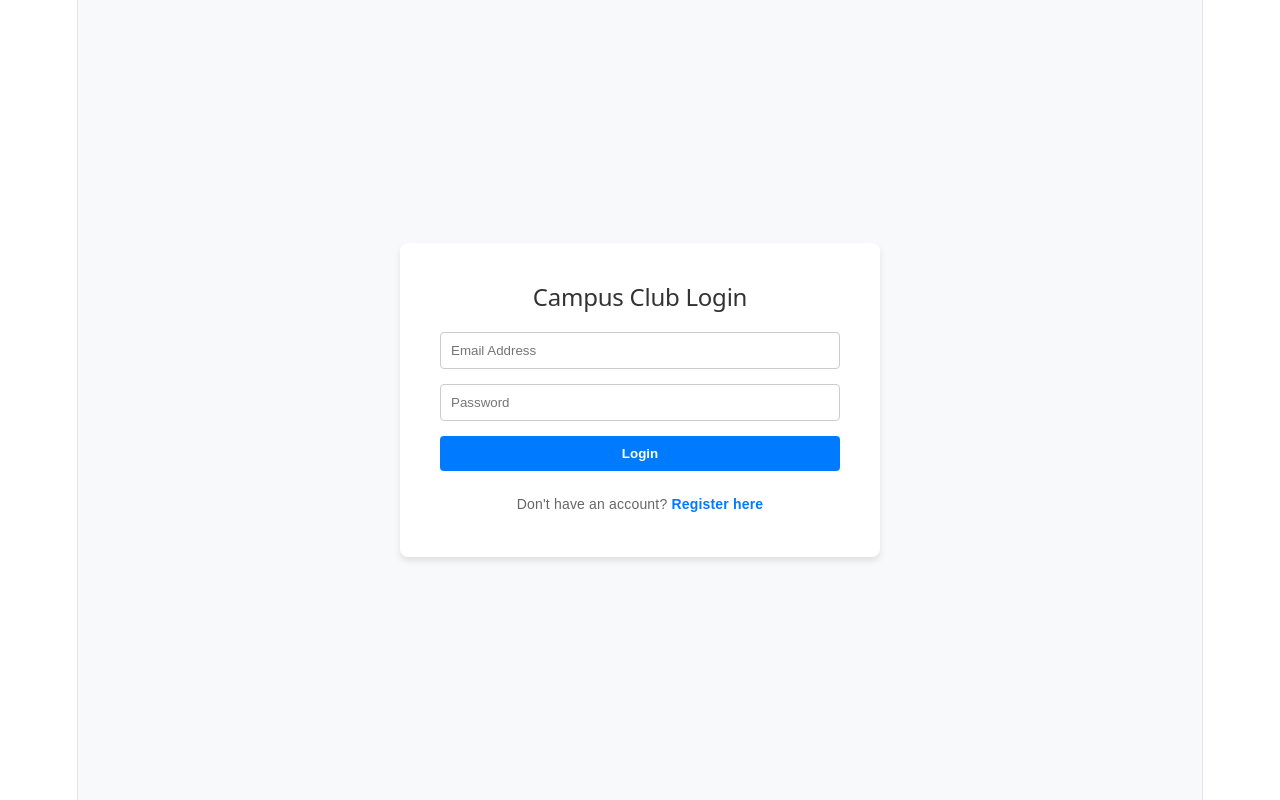
Test case: Login component › registers a new user, shows success message, and switches back to login mode
Click the text "Register here" at (717, 504), box [671,496,763,512]
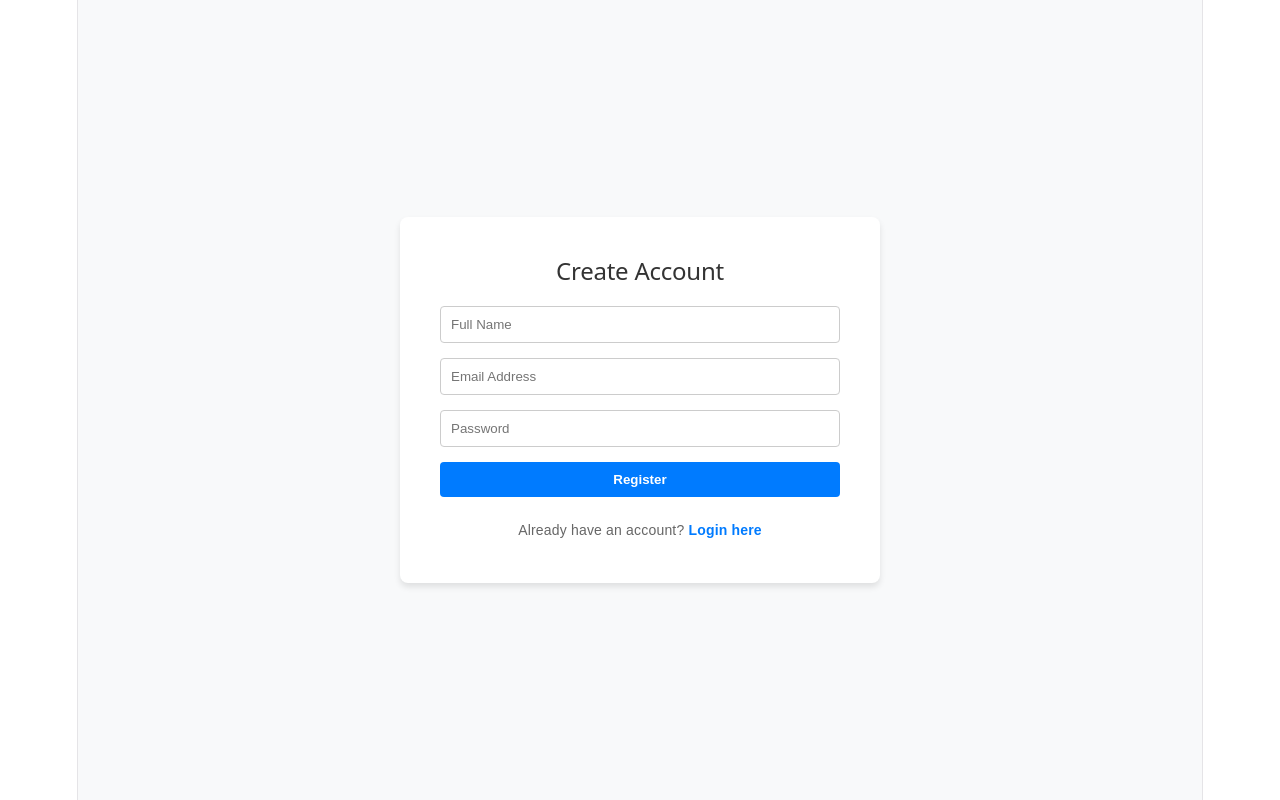
Type "Basima Salim" into the field with placeholder "Full Name" at (640, 324), box [440,306,840,343]
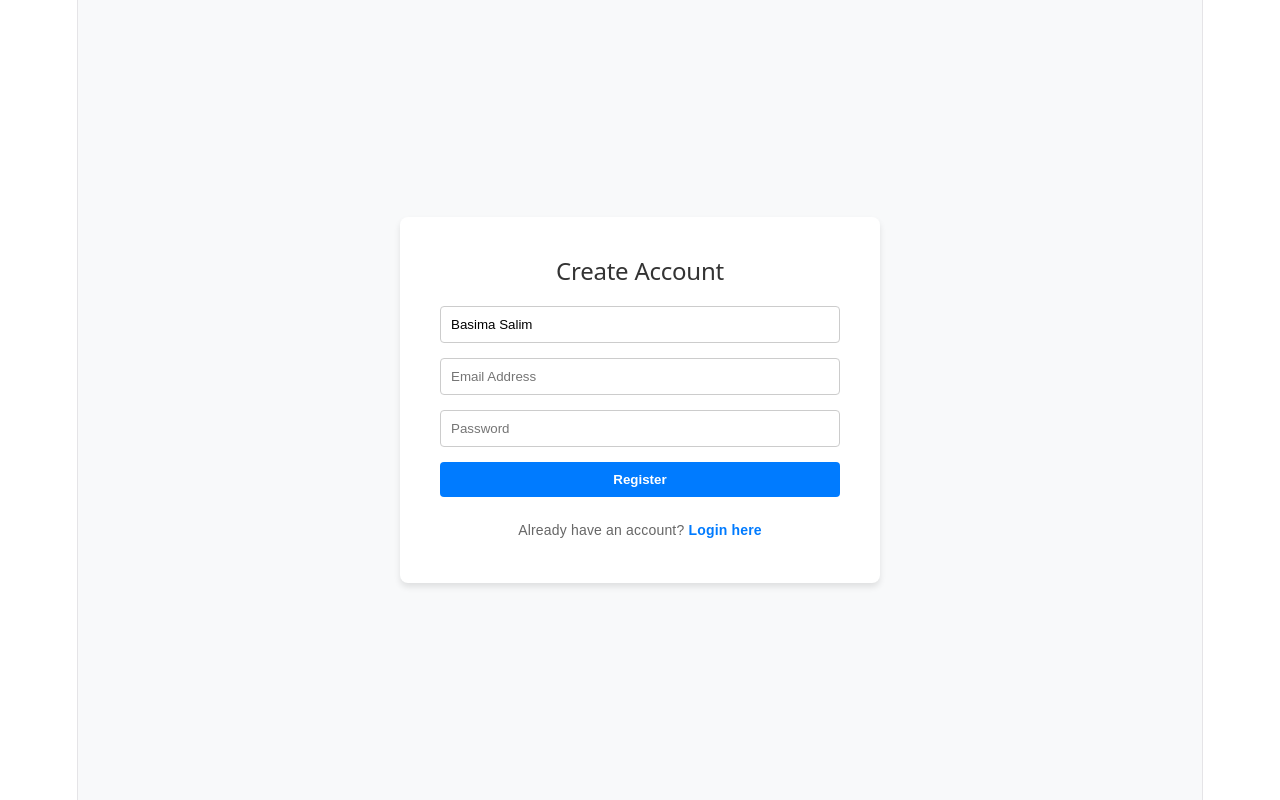
Type "basima@example.com" into the field with placeholder "Email Address" at (640, 376), box [440,358,840,395]
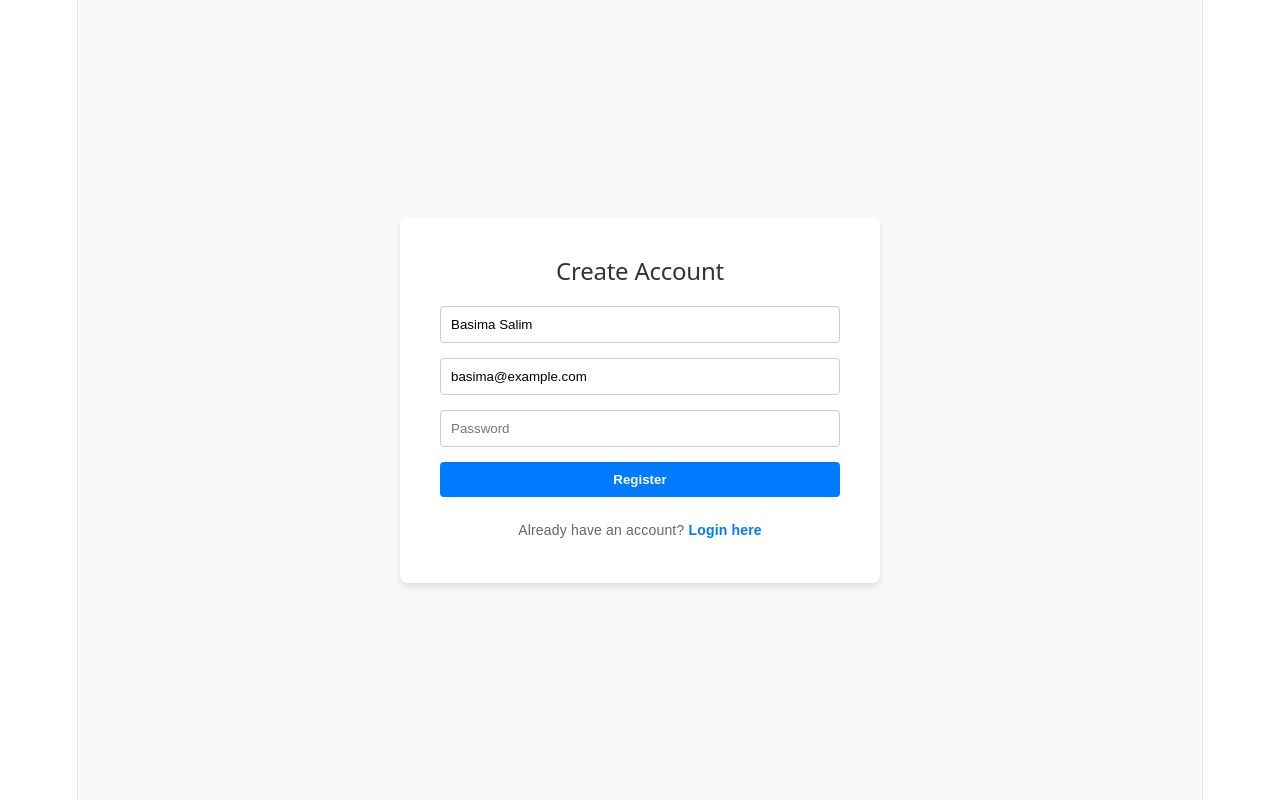
Type "Secret123!" into the password field with placeholder "Password" at (640, 428), box [440,410,840,447]
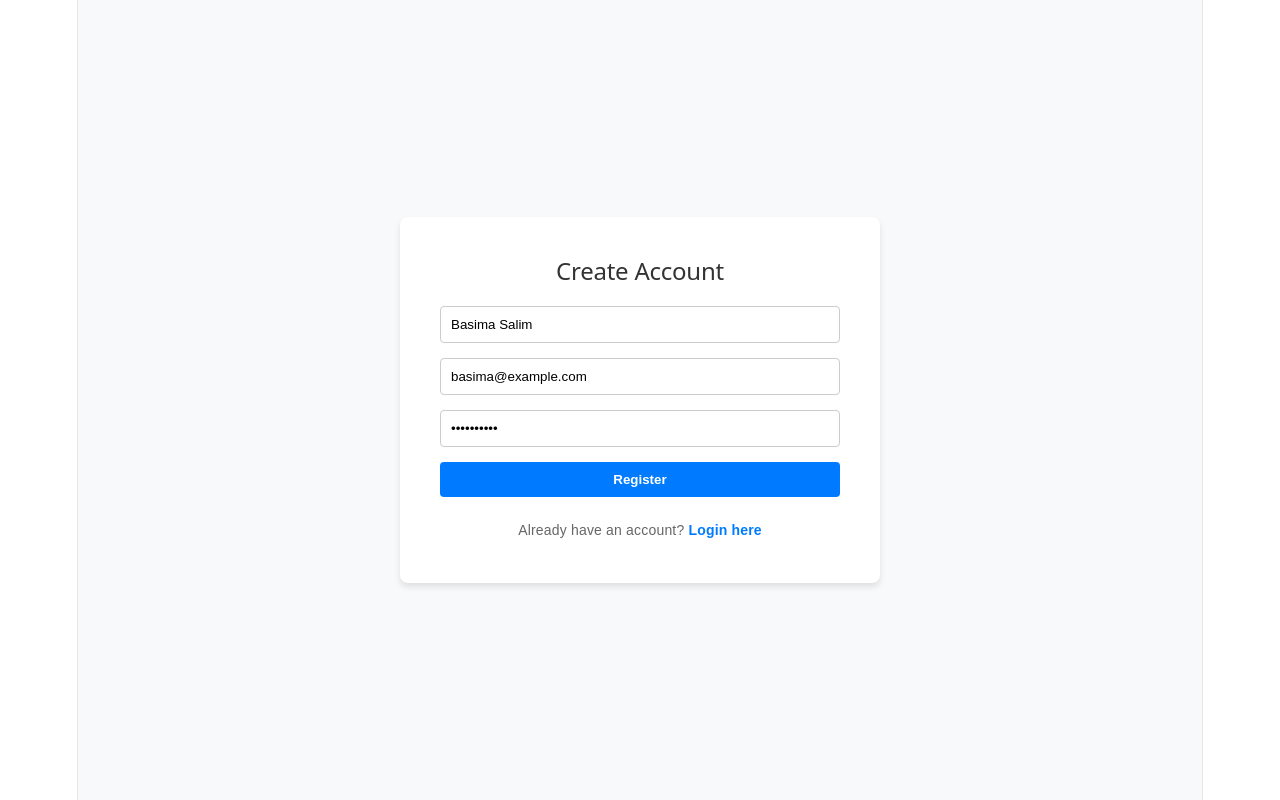
Click the button "Register" at (640, 479), box [440,462,840,497]
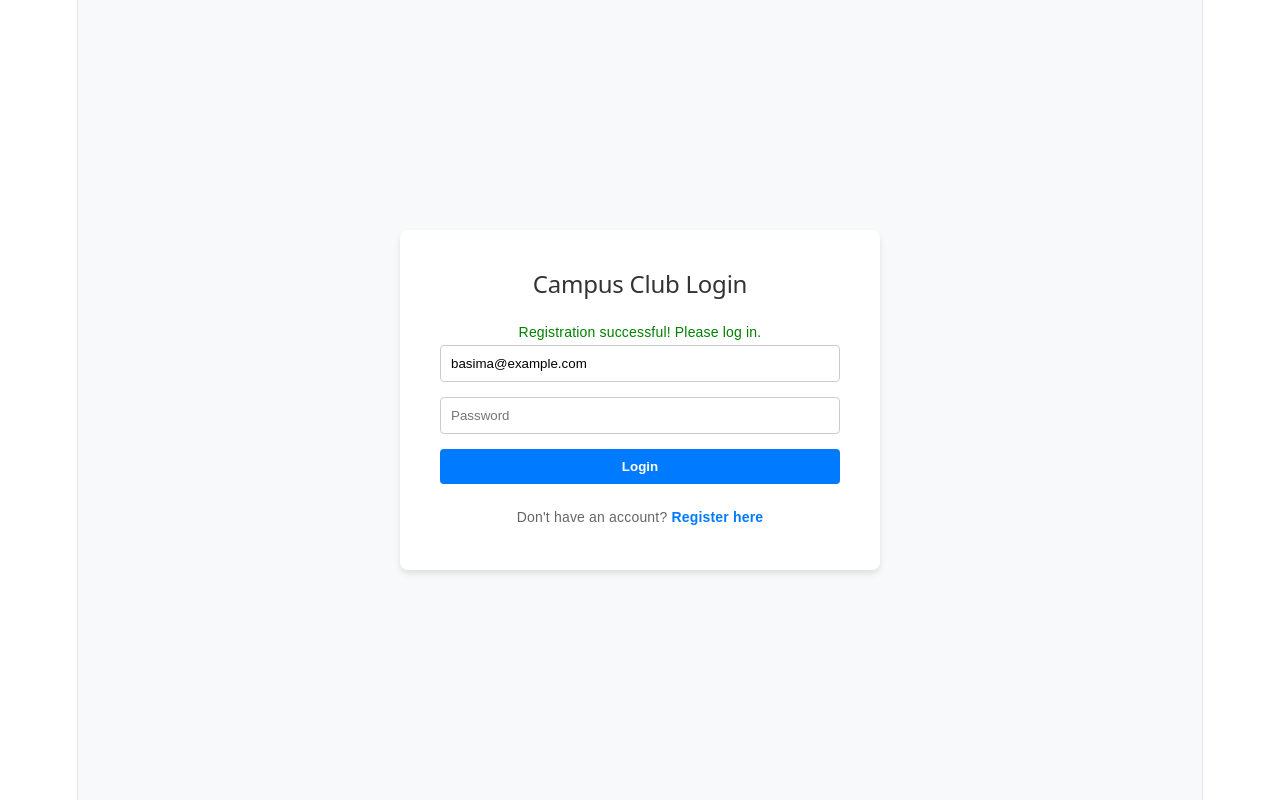
Now the text "Registration successful! Please log in." is shown, box [519,324,761,340]
Now the heading "Campus Club Login" is shown, box [533,267,747,300]
Now the password field with placeholder "Password" is empty, box [440,397,840,434]
